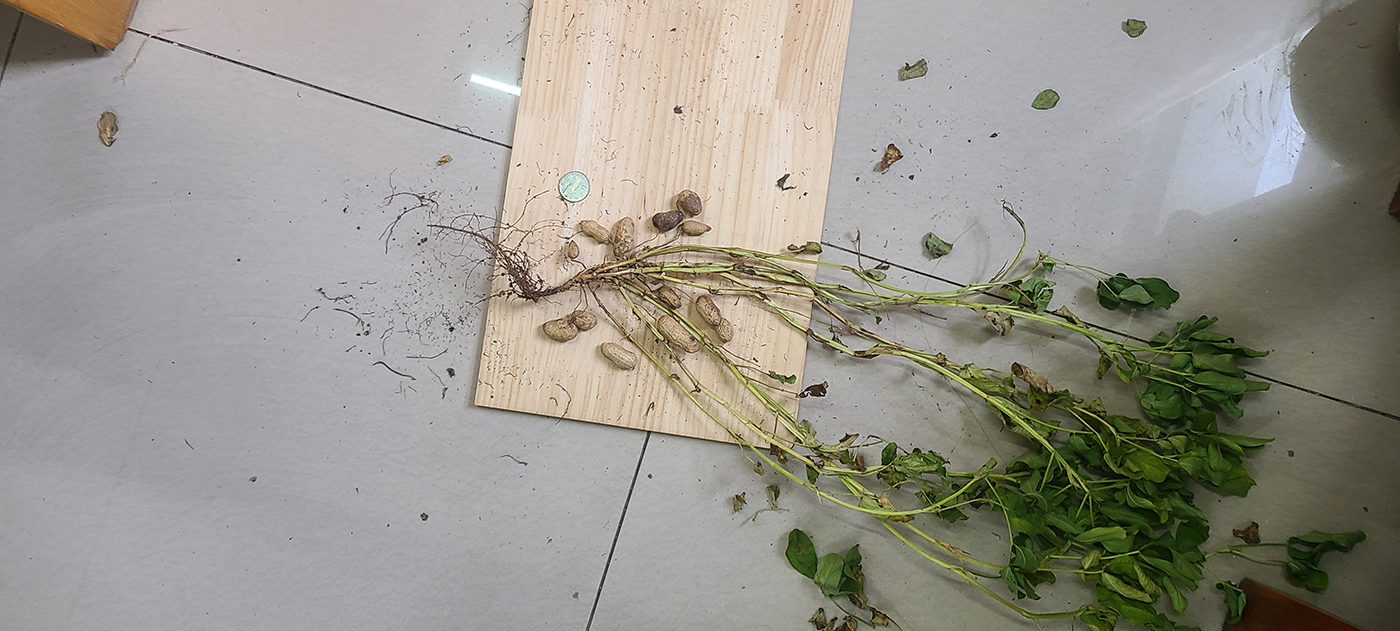h: (695, 295, 733, 343), (658, 315, 698, 353), (601, 342, 637, 370), (579, 219, 611, 245), (542, 318, 577, 341), (615, 216, 634, 257), (657, 286, 682, 308), (681, 220, 713, 236), (572, 310, 597, 330)
l: (653, 210, 684, 232), (678, 189, 703, 216)
